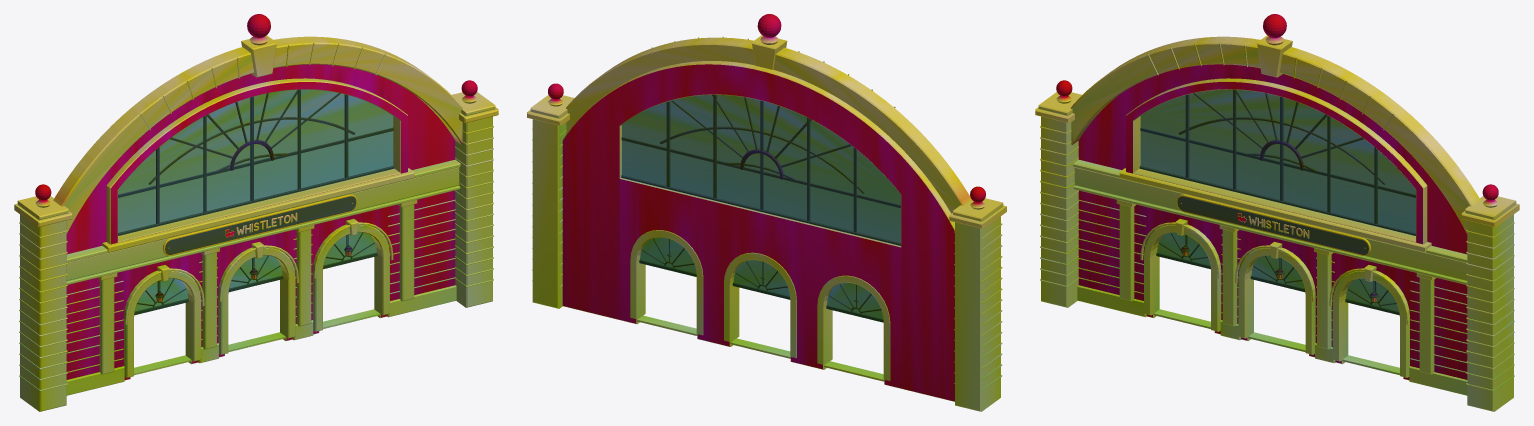
The model's file is GS_Hall_Facade.fbx.
The picture shows the model from 3 angles, left to right: view 1: azimuth 30°, elevation 25°; view 2: azimuth 150°, elevation 25°; view 3: azimuth 330°, elevation 25°; orthographic projection.
Visible parts, largest first — view 1: GS_Hall_Facade; view 2: GS_Hall_Facade; view 3: GS_Hall_Facade.
Part boxes in pixels (bbox=[...]): GS_Hall_Facade: bbox=[14, 14, 498, 411]; GS_Hall_Facade: bbox=[527, 14, 1006, 411]; GS_Hall_Facade: bbox=[1035, 14, 1519, 411].
Bounding box in the file's own units: 27.34 × 19.07 × 2.57.
